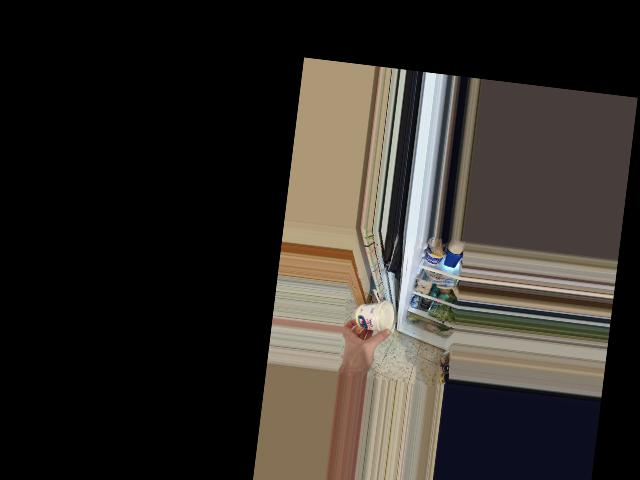cotage: (355, 298, 397, 334)
